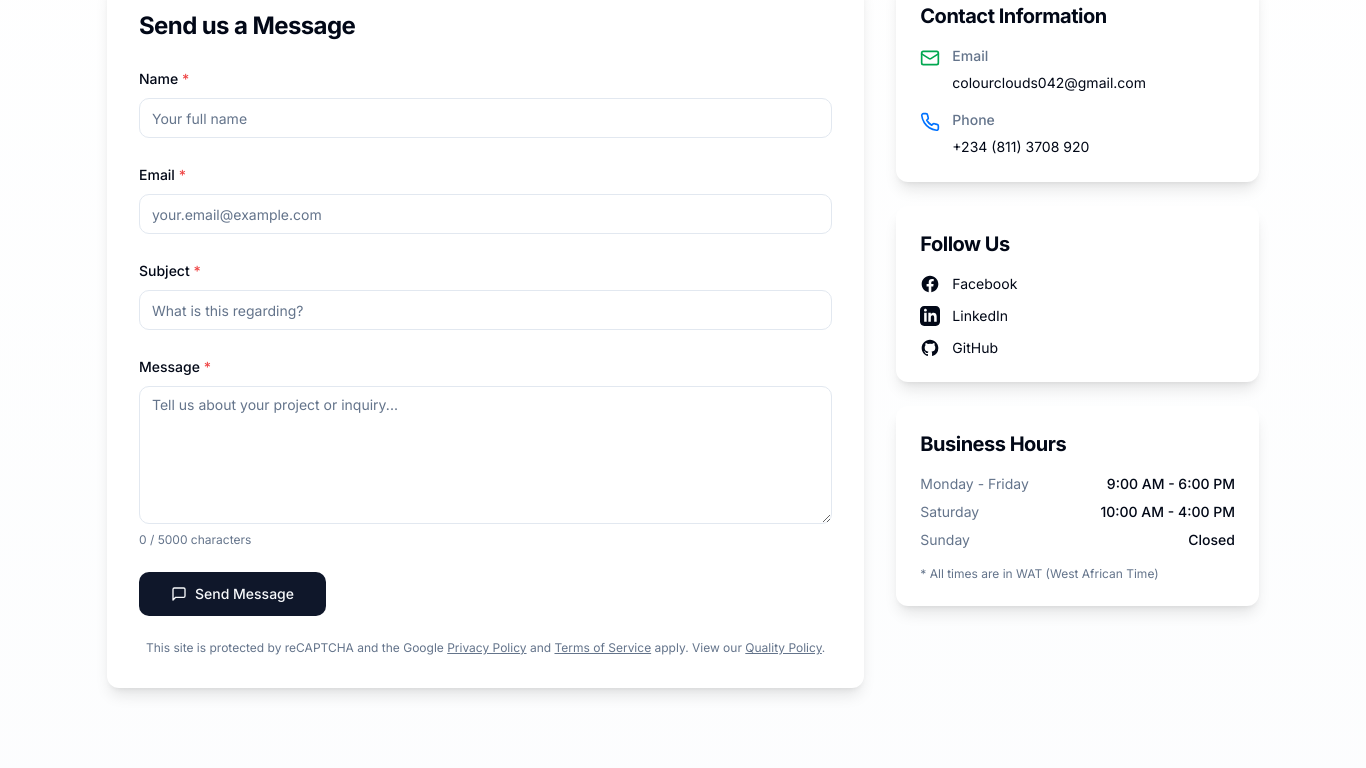
Test: Contact Page › Client-side Validation › should show validation error for short message
The width and height of the screenshot is (1366, 768).
(page scrolled)
Type "Short" into the text box labelled "Message *" at point(486, 455), box [139, 386, 832, 524]
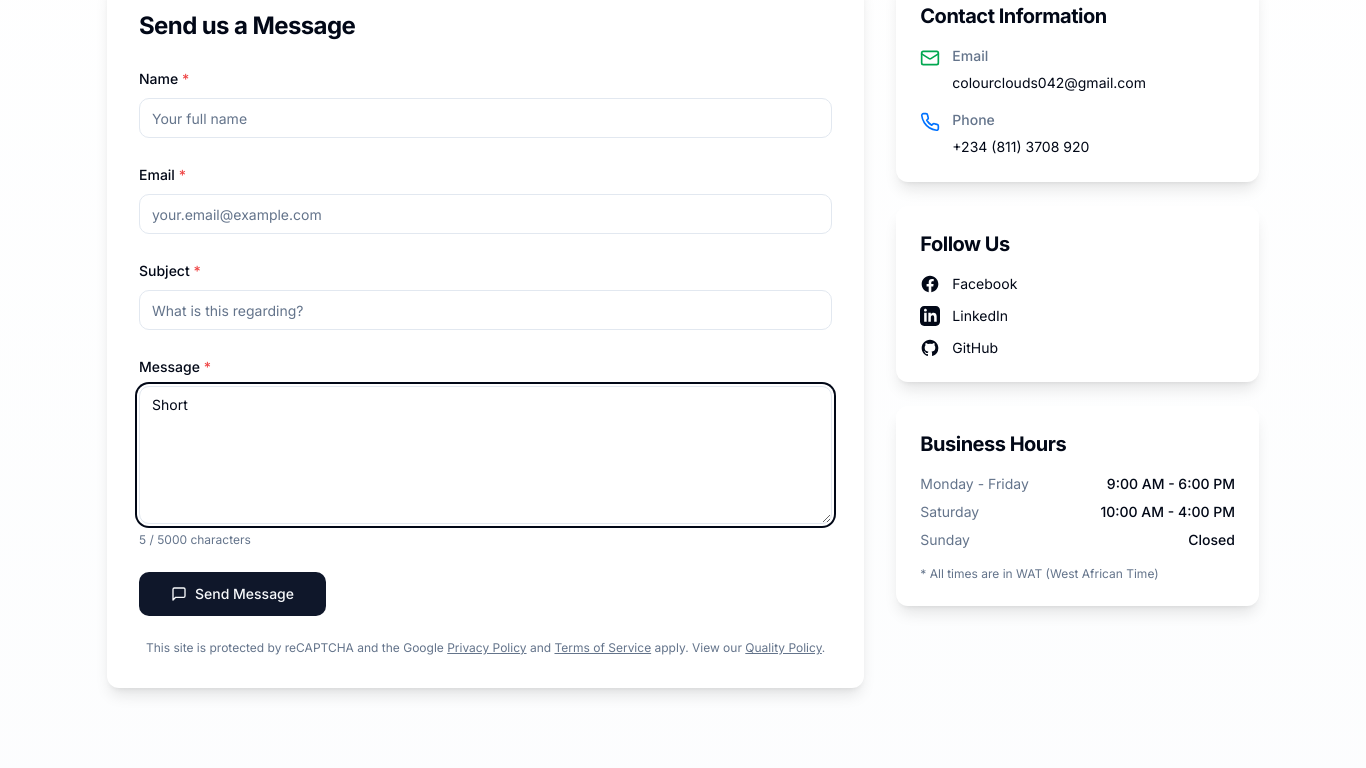
Click the button "Send Message" at point(232, 594), box [139, 572, 326, 616]
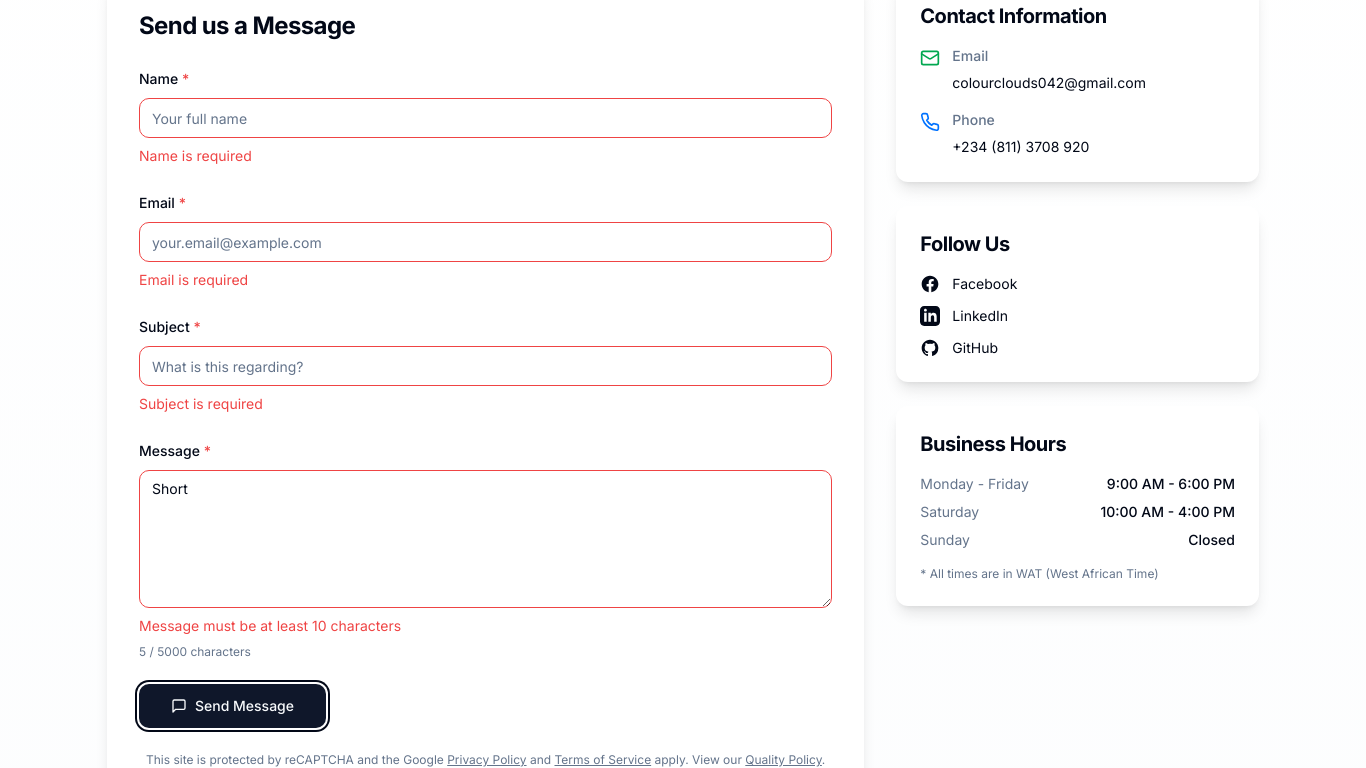
Expected: the text "Message must be at least 10 characters" is shown, [139, 617, 401, 634]
